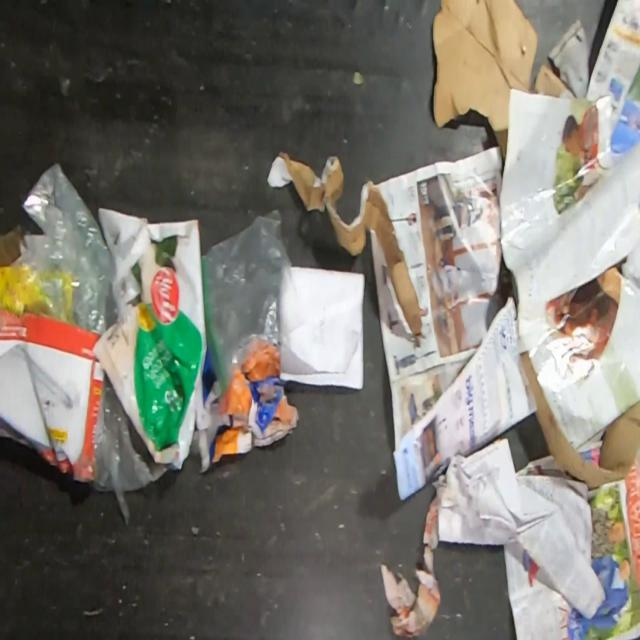cardboard: (266, 150, 423, 353), (431, 0, 579, 167), (0, 309, 106, 484), (520, 350, 640, 493), (0, 223, 25, 301)
soft_plastic: (93, 208, 207, 470), (0, 160, 119, 336), (201, 208, 308, 399), (88, 372, 172, 527)
